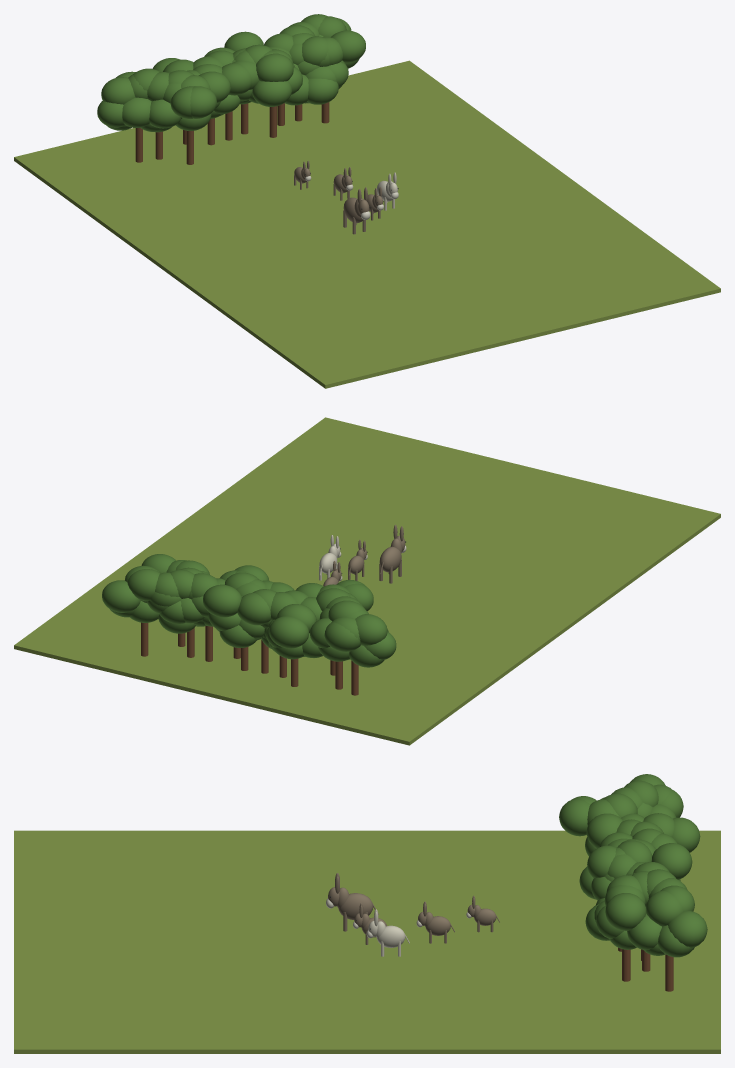
The model's file is scene-5-scenerig.glb.
3 renders of one model, top to bottom at view 1: azimuth 30°, elevation 25°; view 2: azimuth 150°, elevation 25°; view 3: azimuth 270°, elevation 25°, orthographic. The views are drawn at different scales.
Visible parts, largest first — view 1: floor, foliage.092, foliage.086, foliage.001, foliage.126, foliage, foliage.033, foliage.121, foliage.069, foliage.012, foliage.116, foliage.007; view 2: floor, foliage.045, foliage.075, foliage.132, foliage.065, foliage, foliage.141, foliage.002, foliage.079, foliage.038; view 3: floor, foliage.126, foliage.132, foliage.075, foliage.138, foliage.033, foliage.142, foliage.028, foliage.045, foliage.092, foliage.140, donkey torso (+6 smaller).
Part boxes in pixels (x1,y1,x2,y2): floor: [14, 60, 720, 388]; foliage.092: [256, 53, 293, 81]; foliage.086: [252, 81, 291, 106]; foliage.001: [122, 97, 151, 127]; foliage.126: [331, 30, 365, 63]; foliage: [101, 77, 135, 104]; foliage.033: [190, 86, 216, 118]; foliage.121: [307, 78, 338, 104]; foliage.069: [222, 63, 251, 95]; foliage.012: [149, 99, 180, 128]; foliage.116: [302, 36, 328, 65]; foliage.007: [97, 101, 125, 127]; floor: [14, 417, 720, 745]; foliage.045: [269, 616, 308, 648]; foliage.075: [203, 584, 241, 617]; foliage.132: [102, 580, 140, 612]; foliage.065: [237, 592, 270, 625]; foliage: [355, 614, 387, 645]; foliage.141: [127, 569, 160, 601]; foliage.002: [324, 622, 360, 651]; foliage.079: [219, 625, 257, 647]; foliage.038: [277, 604, 316, 633]; floor: [14, 830, 720, 1053]; foliage.126: [605, 893, 646, 930]; foliage.132: [668, 911, 707, 947]; foliage.075: [651, 843, 692, 879]; foliage.138: [646, 890, 683, 926]; foliage.033: [559, 798, 589, 836]; foliage.142: [627, 913, 661, 950]; foliage.028: [586, 813, 622, 848]; foliage.045: [672, 817, 700, 852]; foliage.092: [587, 845, 616, 878]; foliage.140: [658, 925, 694, 957]; donkey torso: [338, 893, 373, 919].
Size of the model in its own units: 22 by 4.93 by 30.
